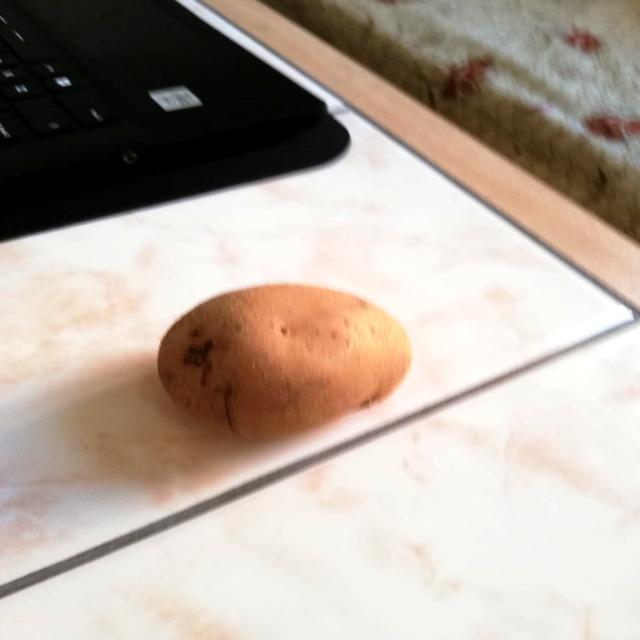potato: (153, 272, 419, 445)
